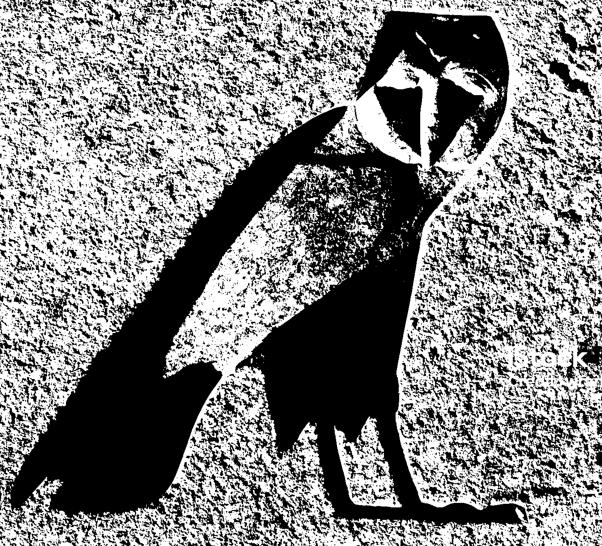Owl: (11, 10, 551, 532)
